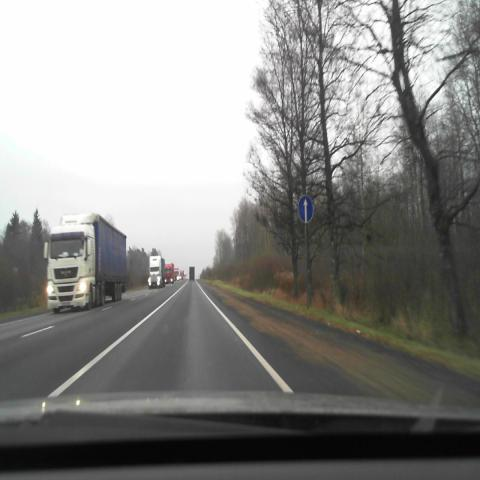4_1_1: (297, 195, 314, 223)
